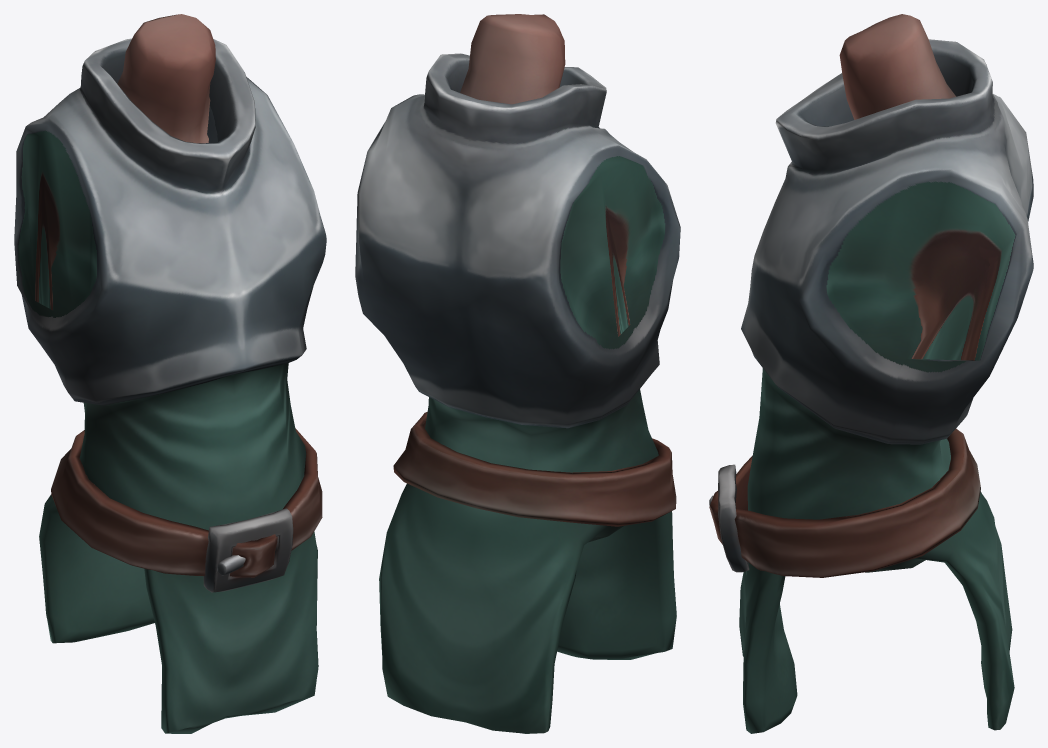
File: M_Chest_1.fbx
The picture shows the model from 3 angles, left to right: view 1: azimuth 30°, elevation 25°; view 2: azimuth 150°, elevation 25°; view 3: azimuth 270°, elevation 25°; orthographic projection. The views are drawn at different scales.
Parts seen in each view (by area): view 1: Male_Torso_1; view 2: Male_Torso_1; view 3: Male_Torso_1.
Boxes of the visible parts, box(x1,y1,x2,y2) form: Male_Torso_1: box(14, 14, 326, 733); Male_Torso_1: box(355, 14, 680, 733); Male_Torso_1: box(709, 14, 1033, 733).
Bounding box in the file's own units: 0.3542 × 0.9106 × 0.3899.
